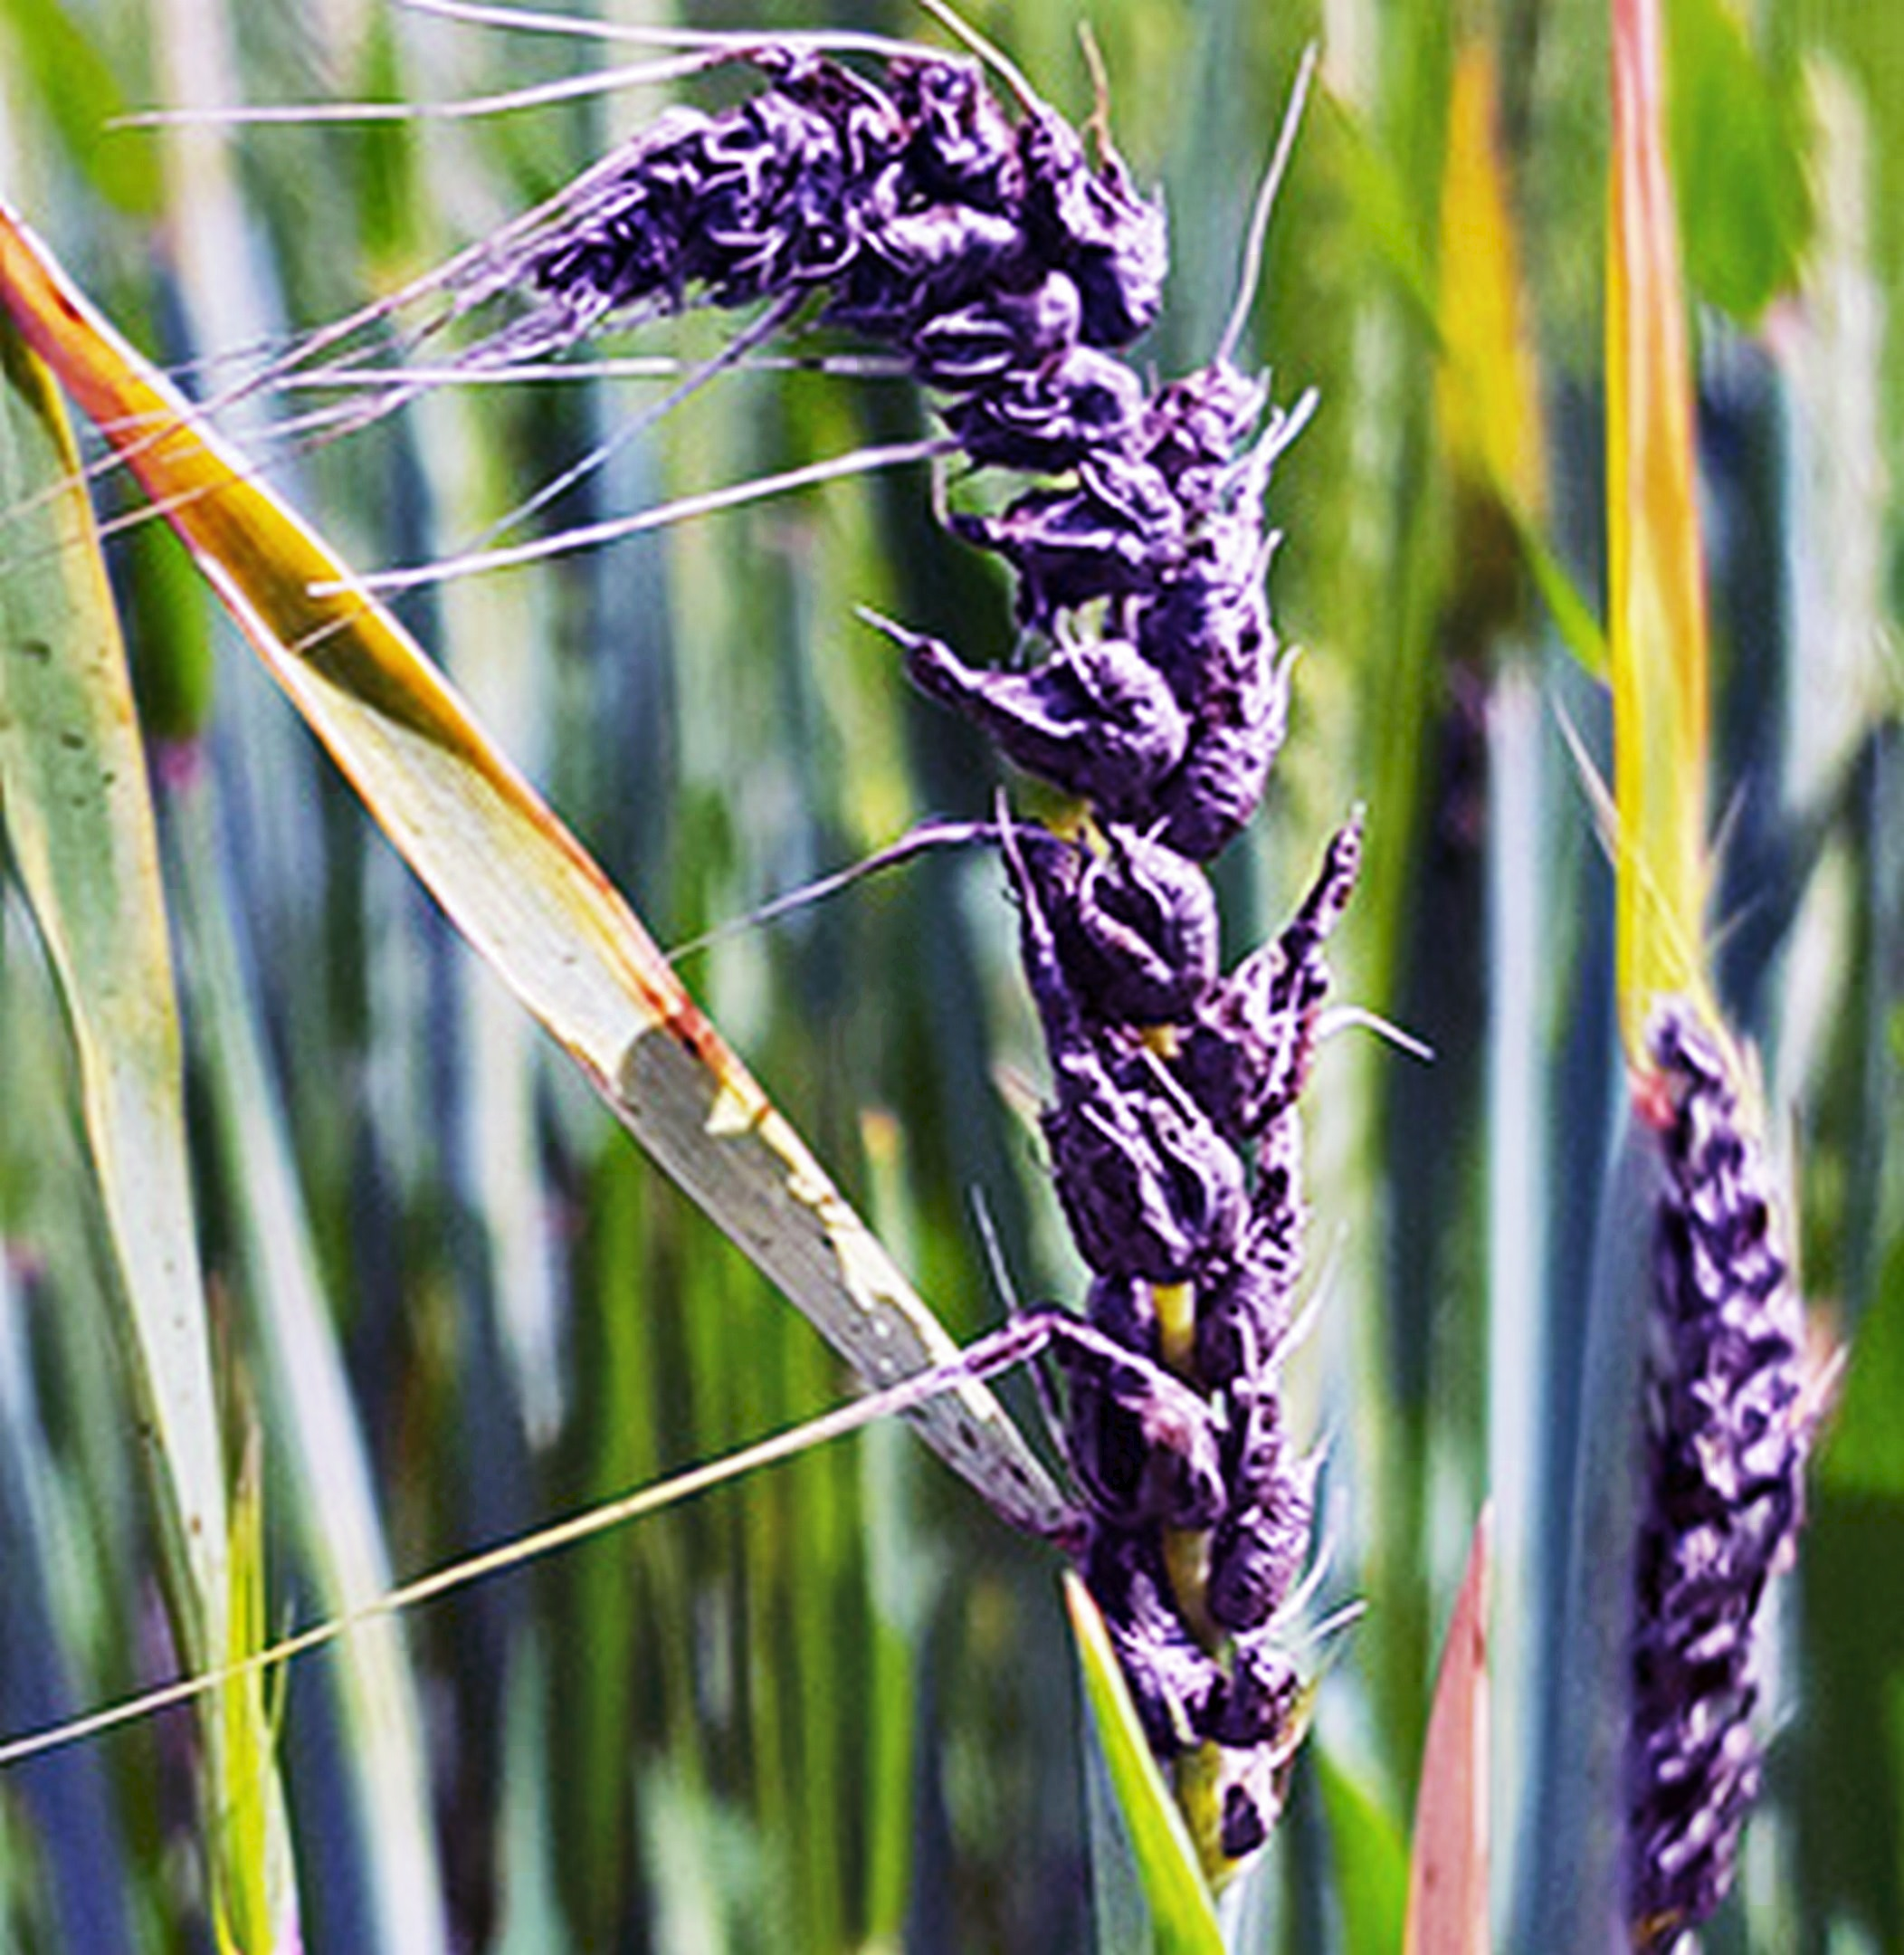Wheat Loose Smut: (455, 19, 1400, 1798)
